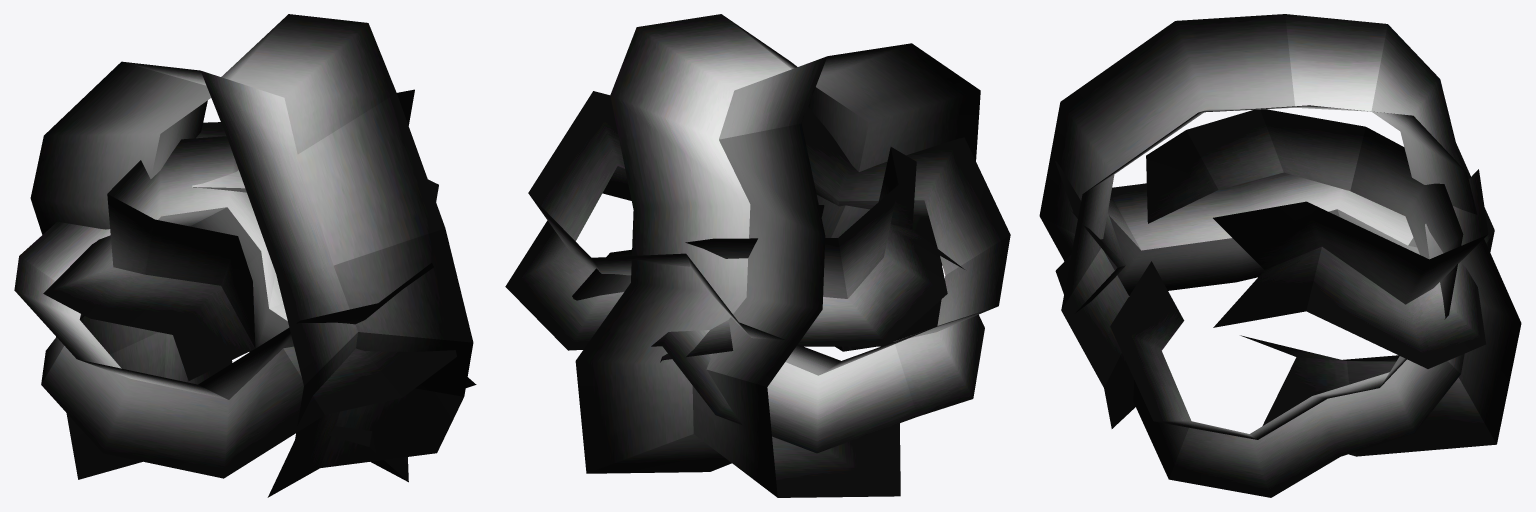
File: vfx_kurp_0999.dae
3 renders of one model, left to right at view 1: azimuth 30°, elevation 25°; view 2: azimuth 150°, elevation 25°; view 3: azimuth 270°, elevation 25°, orthographic. The views are drawn at different scales.
Visible parts, largest first — view 1: vfx_kurp_0999; view 2: vfx_kurp_0999; view 3: vfx_kurp_0999.
Part boxes in pixels (x1,y1,x2,y2): vfx_kurp_0999: (14, 14, 476, 497); vfx_kurp_0999: (505, 14, 1010, 497); vfx_kurp_0999: (1039, 14, 1521, 497).
Size of the model in its own units: 6.81 by 7.22 by 6.78.
1 material, 1 textured.
